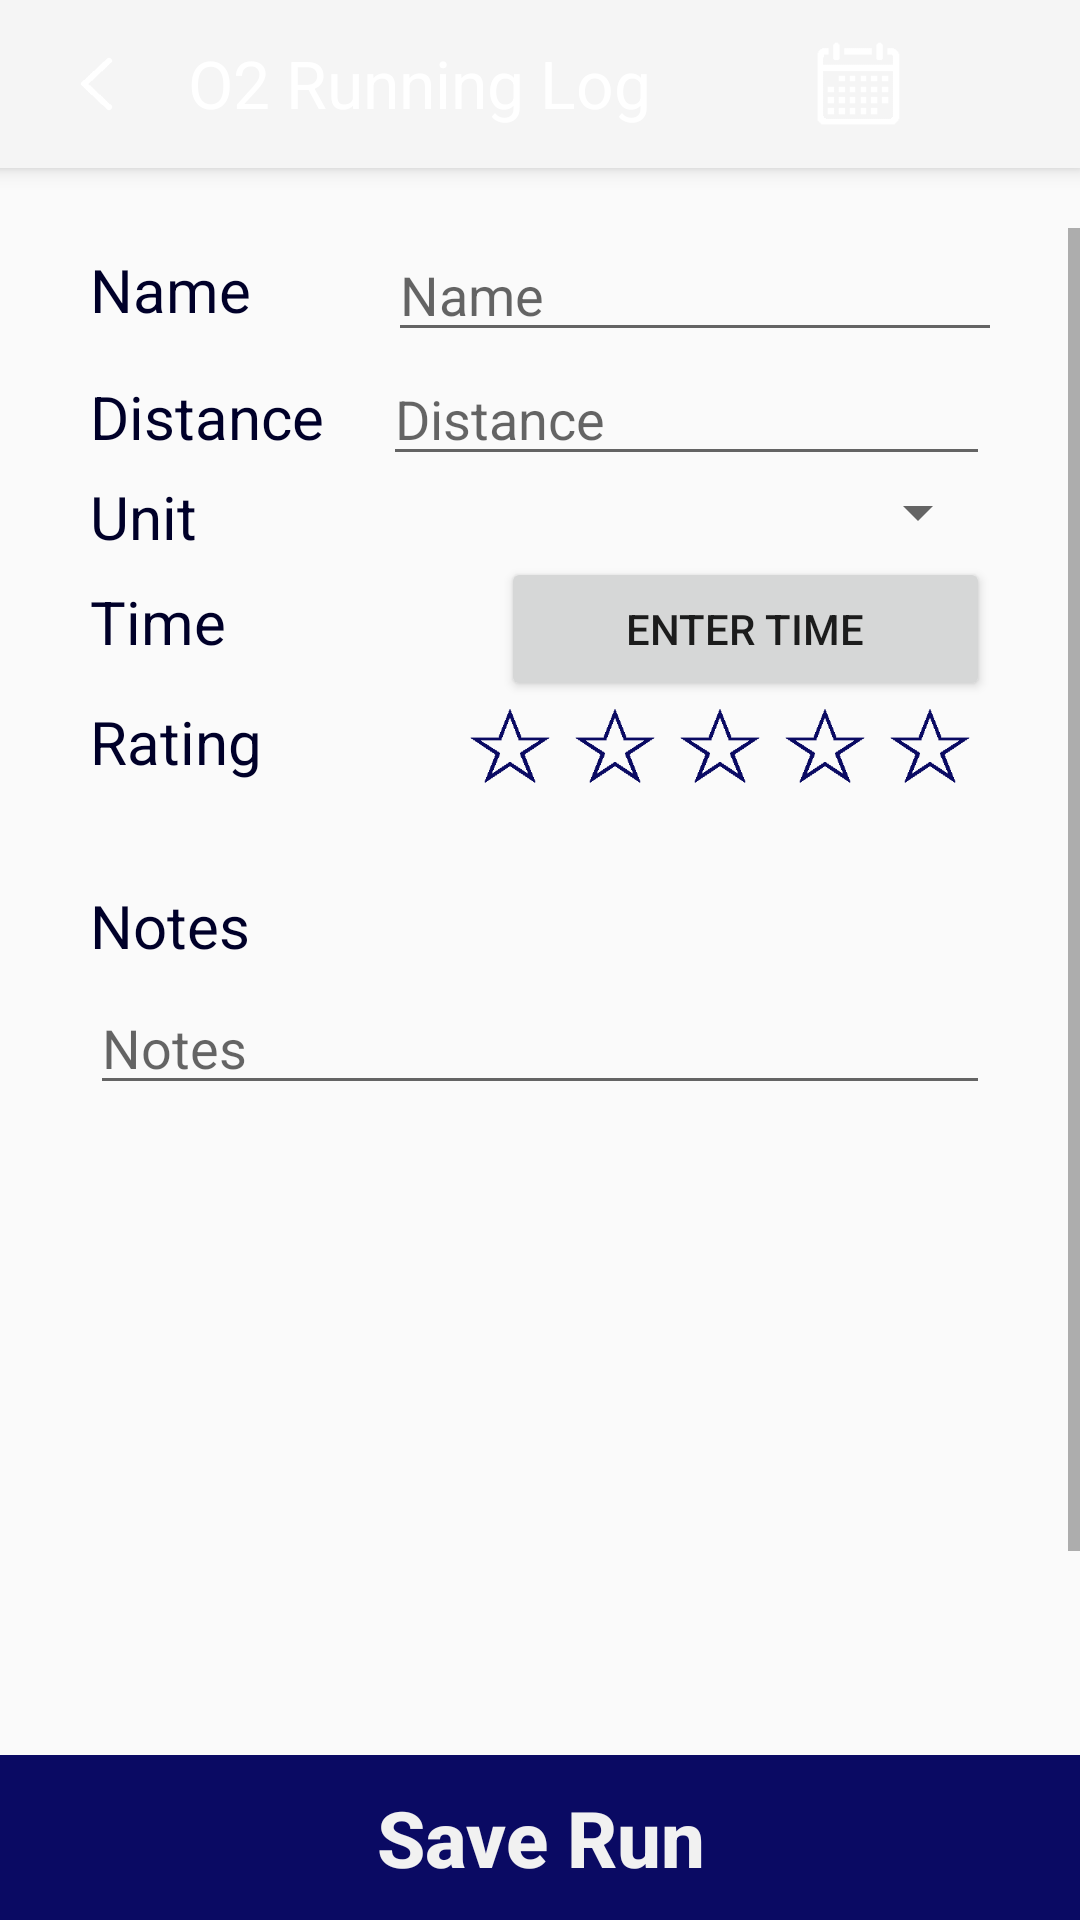

Screen size 1080w x 1920h. Icon name, then its box in pixels as (x1, y1, x2, y2):
star: (470, 709, 550, 783), (575, 709, 655, 783), (680, 709, 760, 783), (785, 709, 865, 783), (890, 709, 970, 783)
